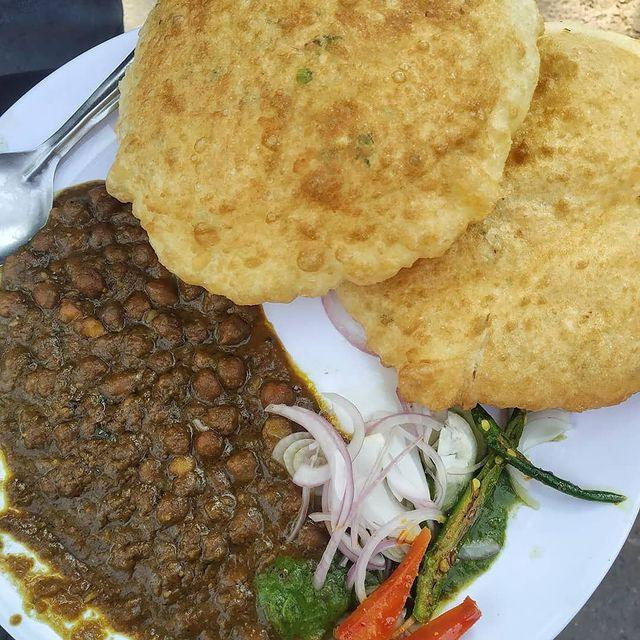Chole: (8, 289, 258, 536)
